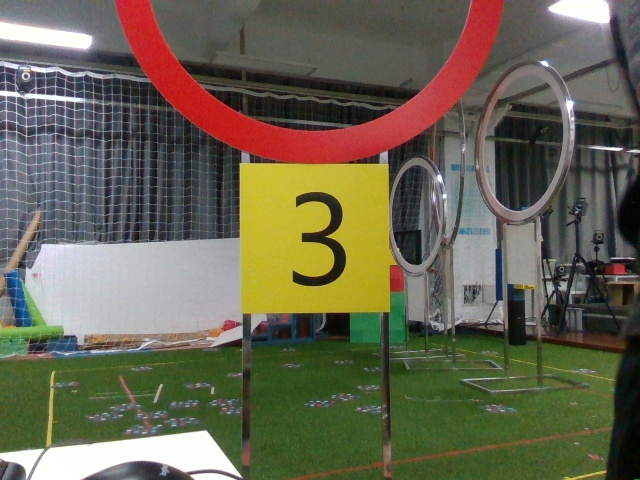target: (241, 166, 390, 311)
